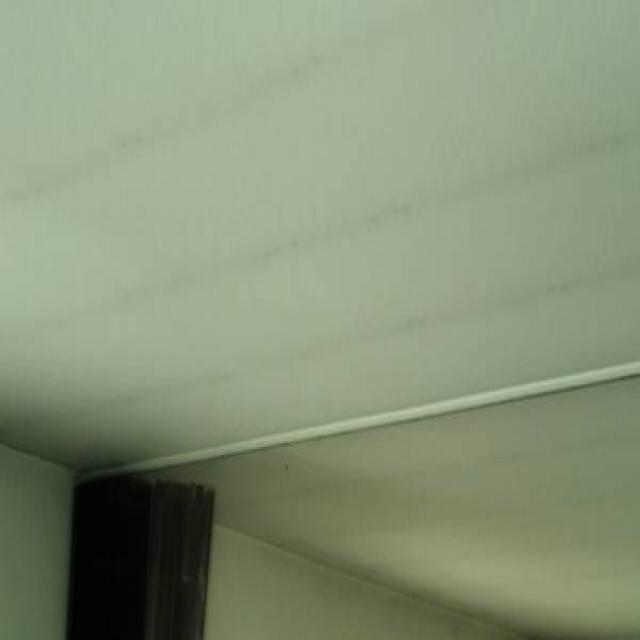tile: (9, 7, 640, 413)
